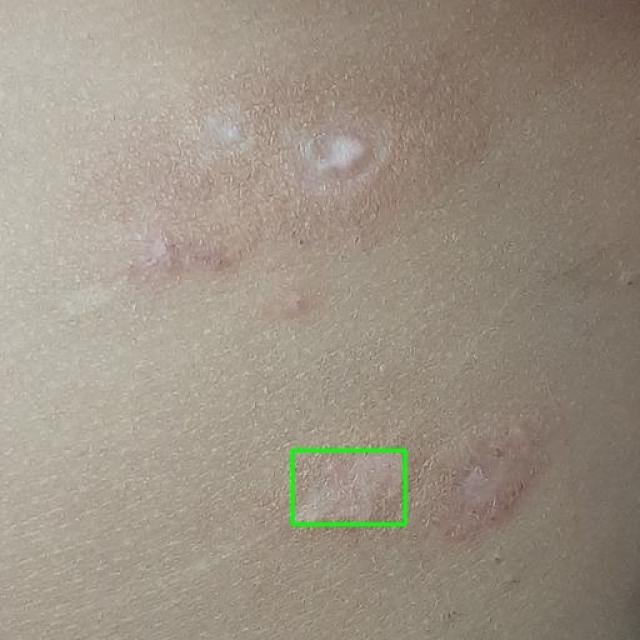Eczema: (292, 450, 405, 524)
